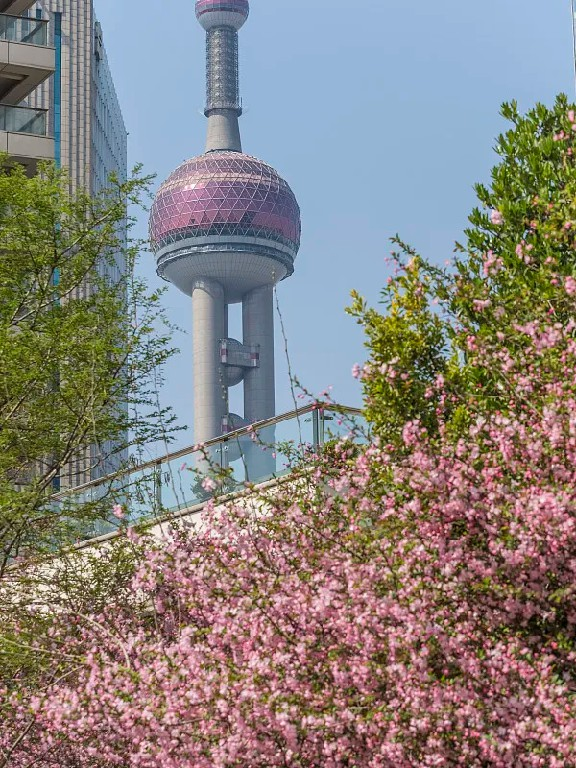Oriental: (148, 1, 301, 485)
